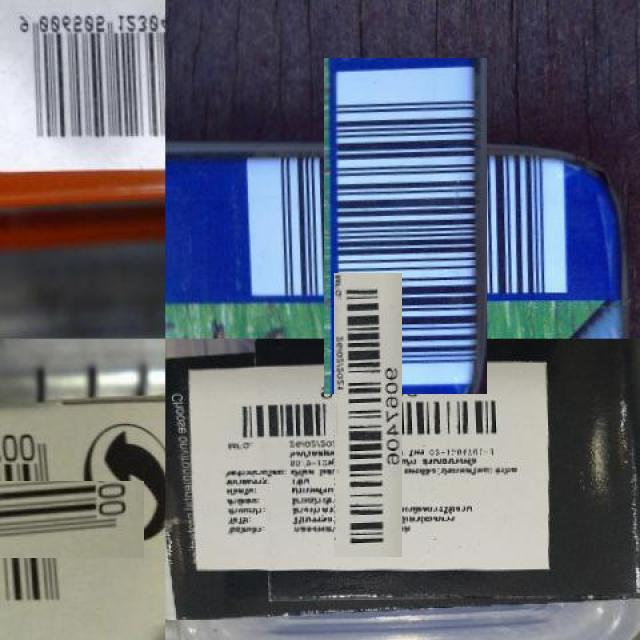Barcode: (280, 101, 530, 351), (280, 327, 456, 504), (0, 0, 165, 174), (0, 447, 110, 592)
